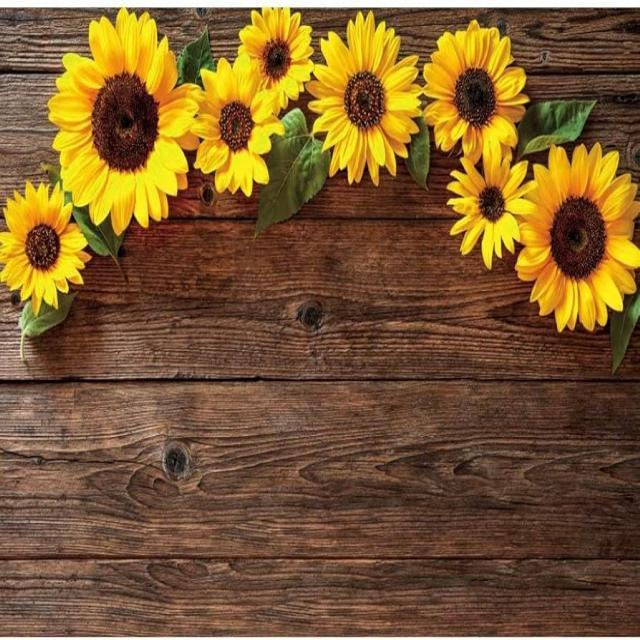sunflower: (46, 6, 200, 236), (514, 141, 640, 332), (306, 9, 422, 186), (422, 18, 530, 168), (189, 53, 284, 197), (0, 179, 91, 316), (446, 138, 536, 270), (237, 5, 314, 112)
